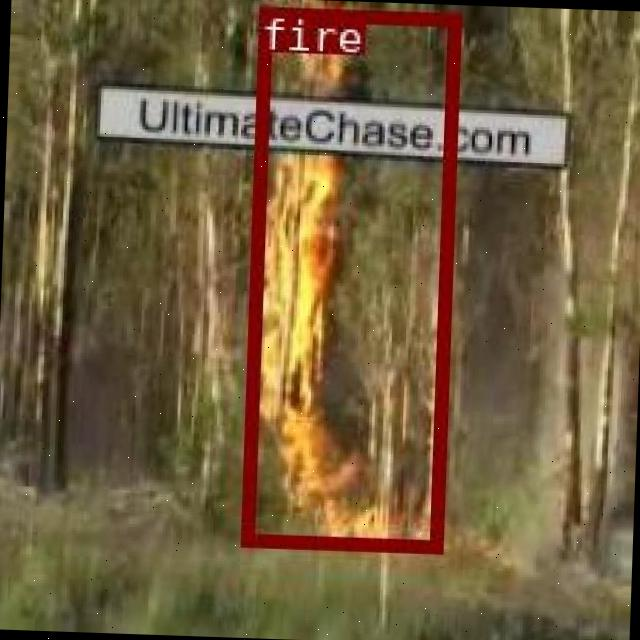fire: (240, 3, 458, 550)
